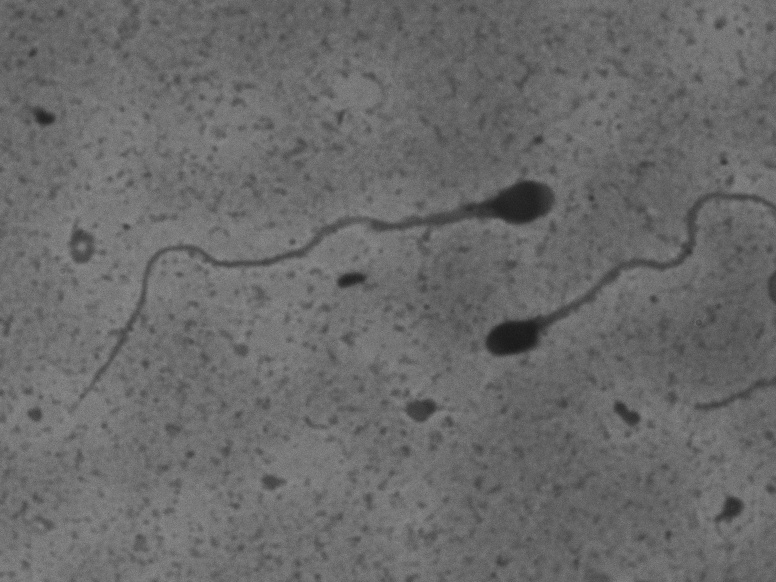Abnormal: (64, 156, 567, 292), (472, 177, 763, 369)
